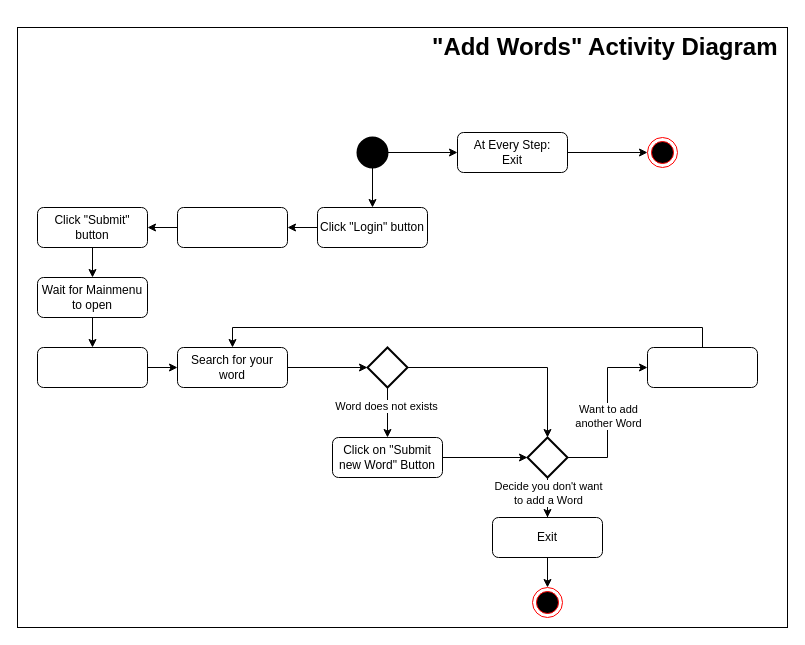
This 805x645 diagram has some shape labels left out. The box of each missing label's shape, as (x1, y1, x2, y2) in pixels:
Click "Search Word" button: (36, 346, 148, 388)
Enter Username and Password: (176, 206, 288, 248)
Think of another word: (646, 346, 758, 388)
